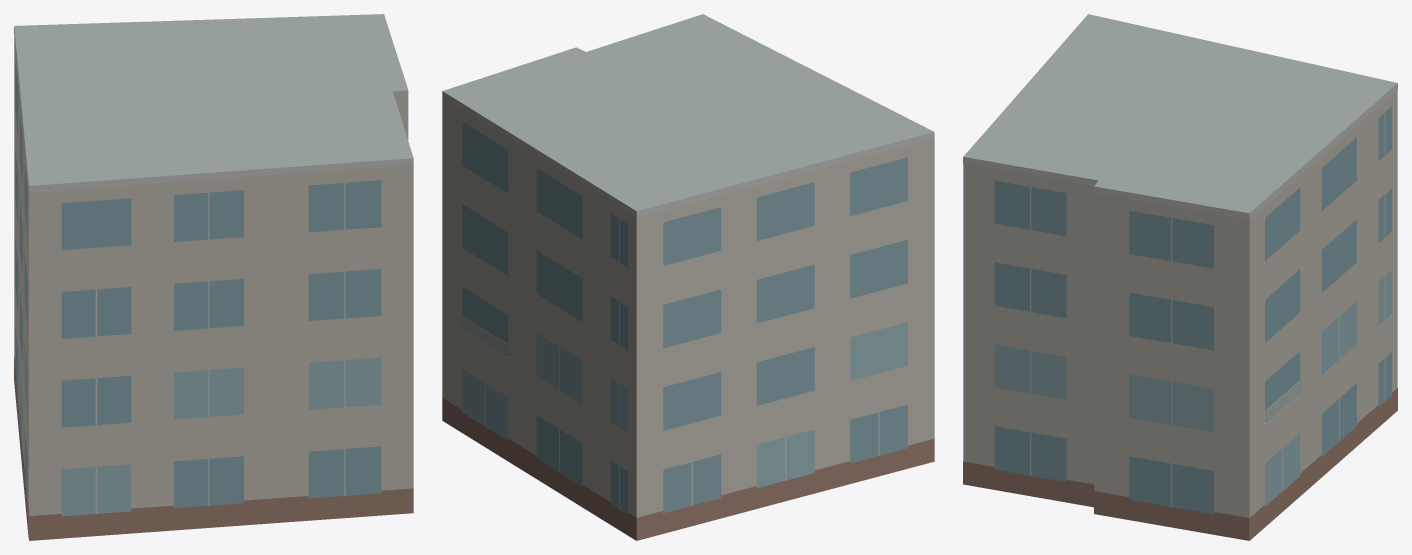
The model's file is survey-upis-33015531.glb.
The picture shows the model from 3 angles, left to right: view 1: azimuth 30°, elevation 25°; view 2: azimuth 150°, elevation 25°; view 3: azimuth 270°, elevation 25°; orthographic projection. The views are drawn at different scales.
Visible parts, largest first — view 1: survey-upis-33015531.tmp; view 2: survey-upis-33015531.tmp; view 3: survey-upis-33015531.tmp.
Boxes of the visible parts, box(x1,y1,x2,y2) form: survey-upis-33015531.tmp: box(14, 14, 413, 540); survey-upis-33015531.tmp: box(442, 14, 934, 540); survey-upis-33015531.tmp: box(963, 14, 1397, 540).
Size of the model in its own units: 15.93 by 12.2 by 14.68.
